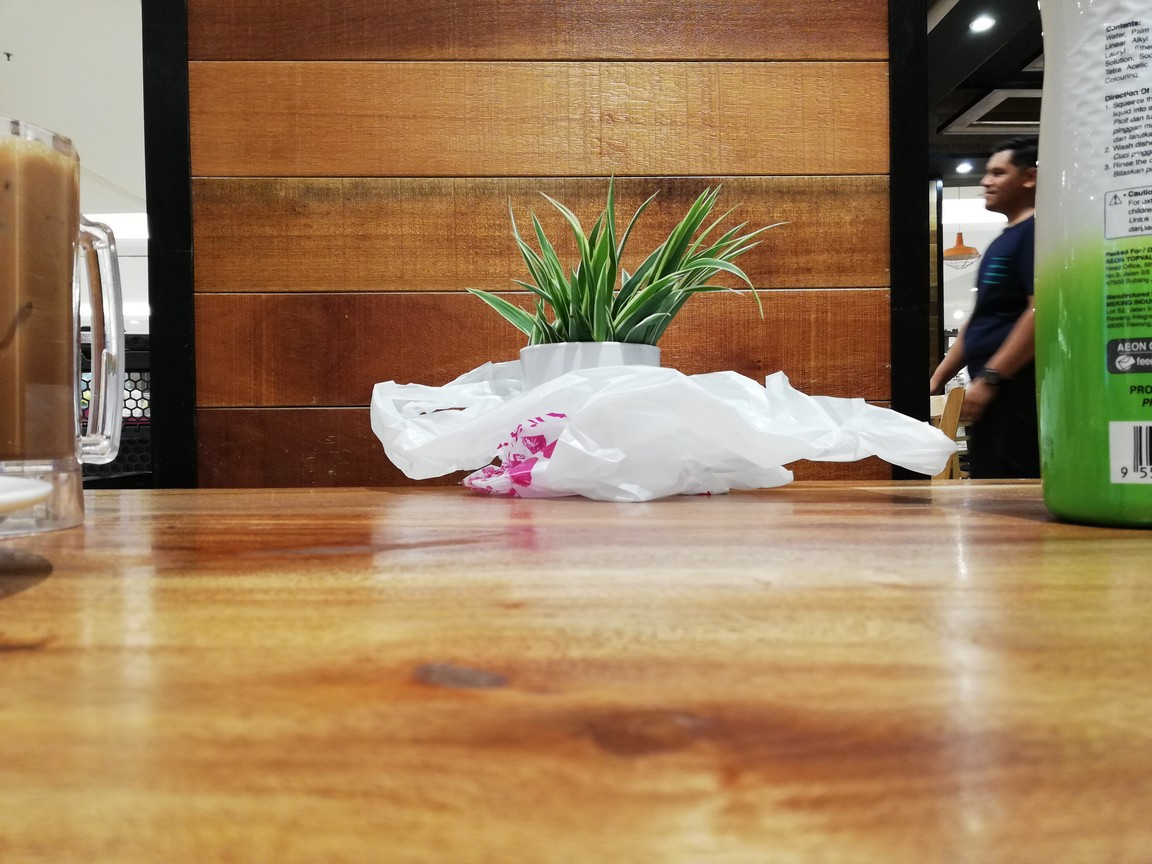daun: (617, 188, 663, 241), (465, 286, 518, 326), (625, 310, 672, 341), (540, 190, 573, 222), (529, 208, 553, 248), (751, 220, 798, 238), (509, 231, 536, 258), (715, 201, 743, 224), (730, 239, 765, 257), (504, 196, 519, 232), (702, 284, 746, 296), (589, 208, 605, 240), (605, 169, 614, 223), (727, 218, 751, 234), (509, 278, 533, 289), (620, 265, 631, 286), (708, 195, 721, 211), (696, 183, 709, 197), (712, 182, 723, 195), (677, 242, 708, 246)
